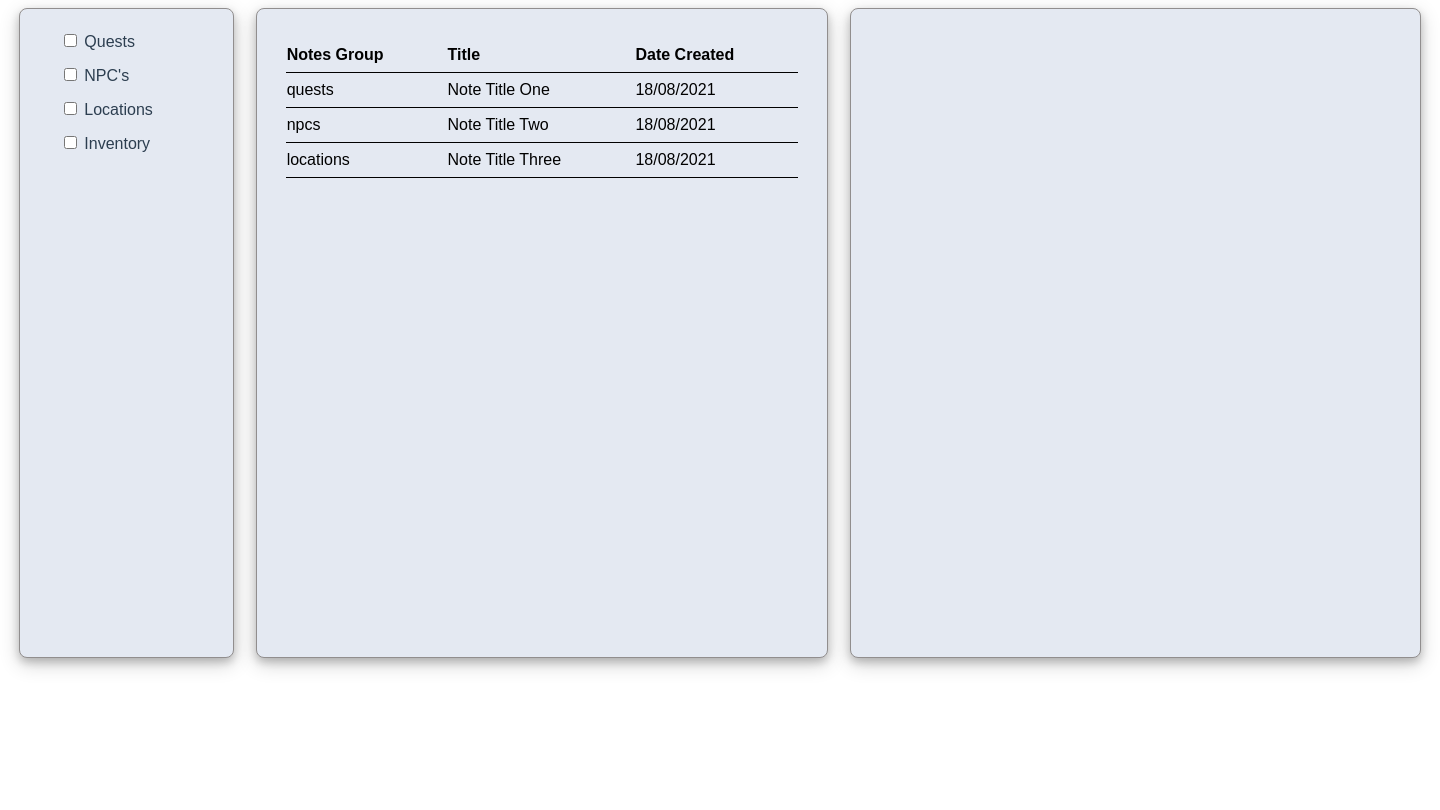
Test: Home.vue › Passes the selected Row to NoteDisplay
What coordinates should you click on to do the following:
click the row "locations Note Title Three 18/08/2021"
I would click on:
 (542, 160)
Its box is [286, 142, 798, 178].
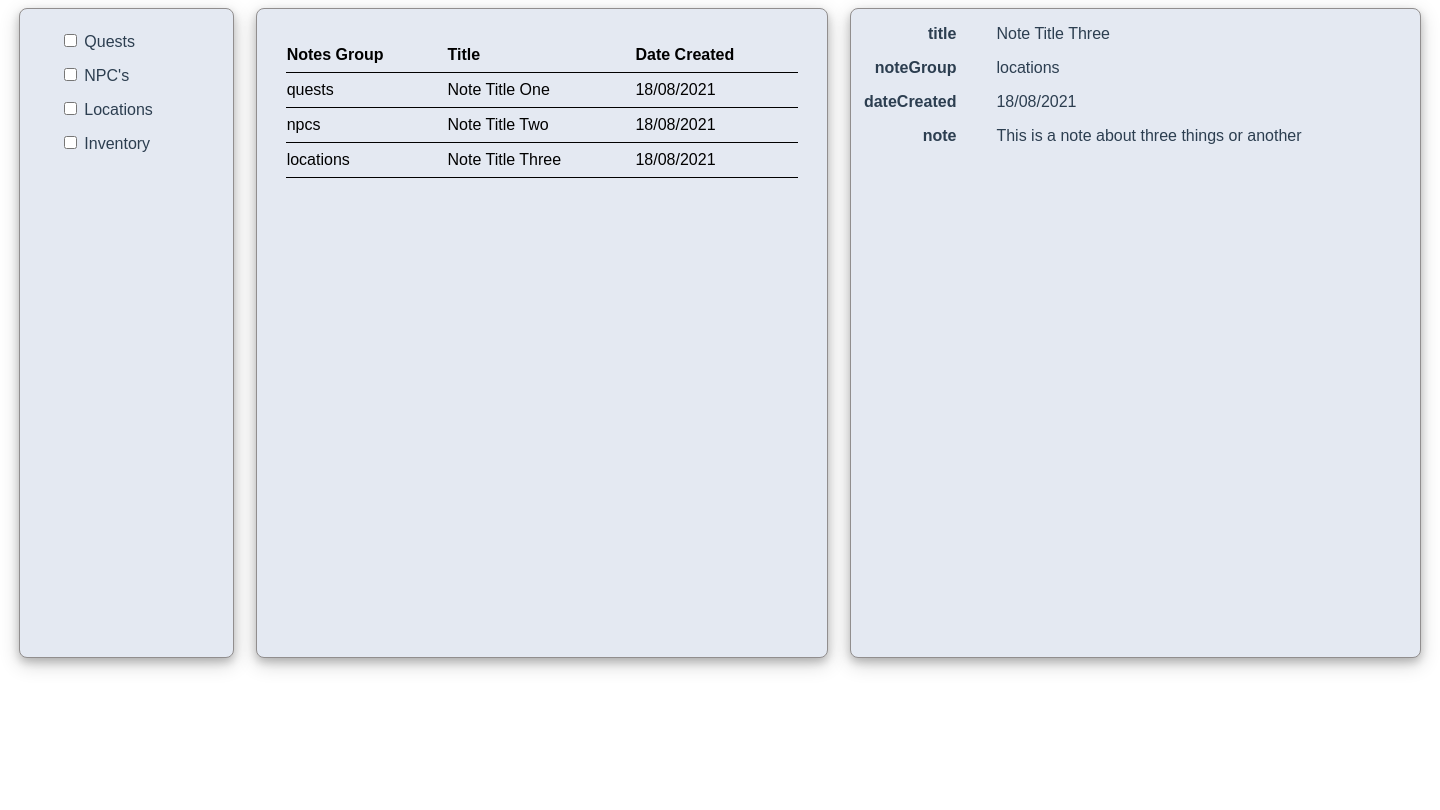
Result: the element showing "title Note Title Three" is shown at [928, 25, 1110, 42]
Result: the element showing "noteGroup locations" is shown at [875, 59, 1060, 76]
Result: the element showing "dateCreated 18/08/2021" is shown at [864, 93, 1076, 110]
